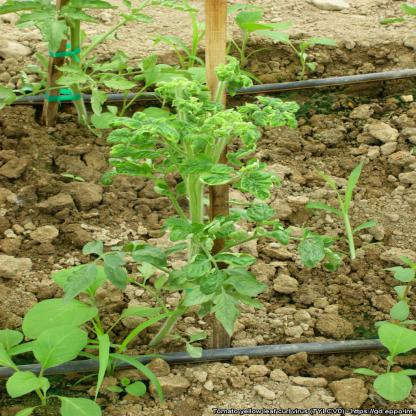Tomato leaf: (210, 285, 242, 337), (59, 264, 102, 302), (242, 172, 280, 200), (174, 154, 220, 176), (103, 252, 133, 285), (297, 239, 329, 269), (246, 201, 274, 227)
